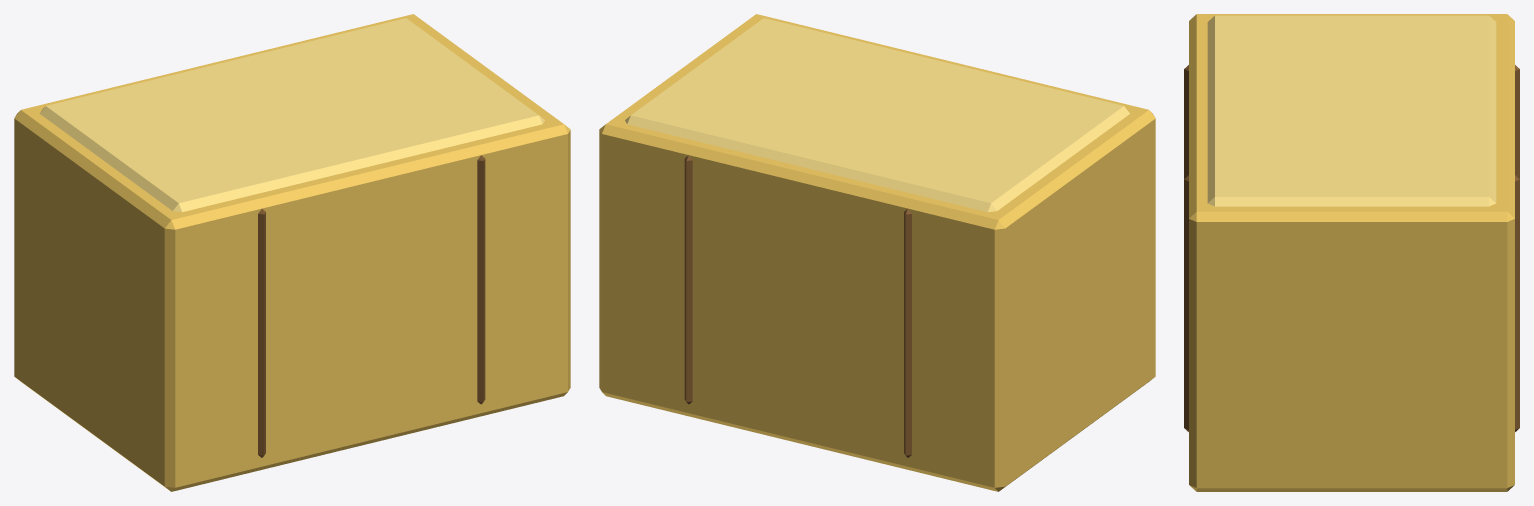
File: FTF_Prop_HayBale_Square_2m.glb
3 views of the same model, side by side, from view 1: azimuth 30°, elevation 25°; view 2: azimuth 150°, elevation 25°; view 3: azimuth 270°, elevation 25° (orthographic). The views are drawn at different scales.
Visible parts, largest first — view 1: FTF_Prop_HayBale_Square_2m_Mesh; view 2: FTF_Prop_HayBale_Square_2m_Mesh; view 3: FTF_Prop_HayBale_Square_2m_Mesh.
Part boxes in pixels (left/top/right/bottom): FTF_Prop_HayBale_Square_2m_Mesh: left=14, top=14, right=570, bottom=491; FTF_Prop_HayBale_Square_2m_Mesh: left=599, top=14, right=1155, bottom=491; FTF_Prop_HayBale_Square_2m_Mesh: left=1184, top=14, right=1519, bottom=491.
Bounding box in the file's own units: 2 × 1.31 × 1.39.
